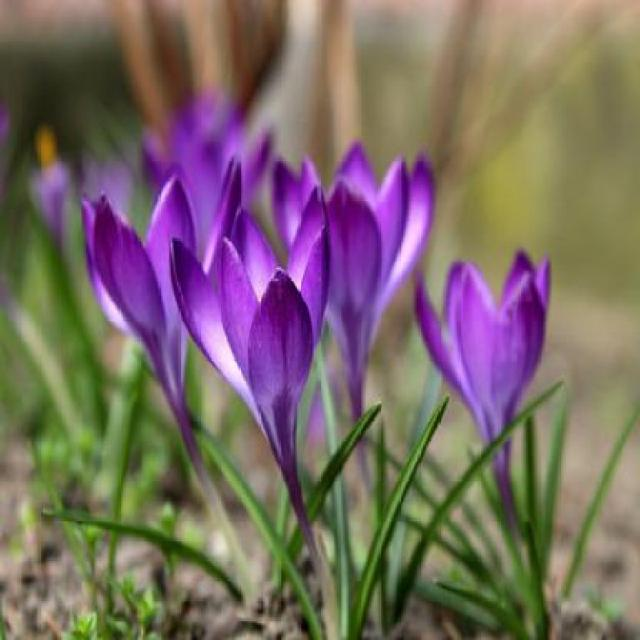Flower: (169, 189, 331, 449), (269, 138, 437, 376), (409, 246, 557, 463), (76, 177, 200, 389)
